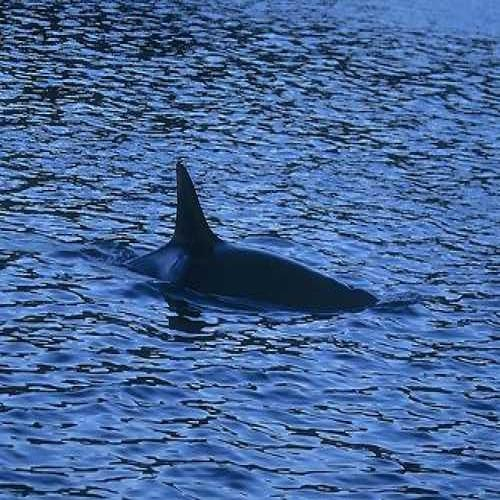killer_whale-endangered: (99, 127, 388, 341)
